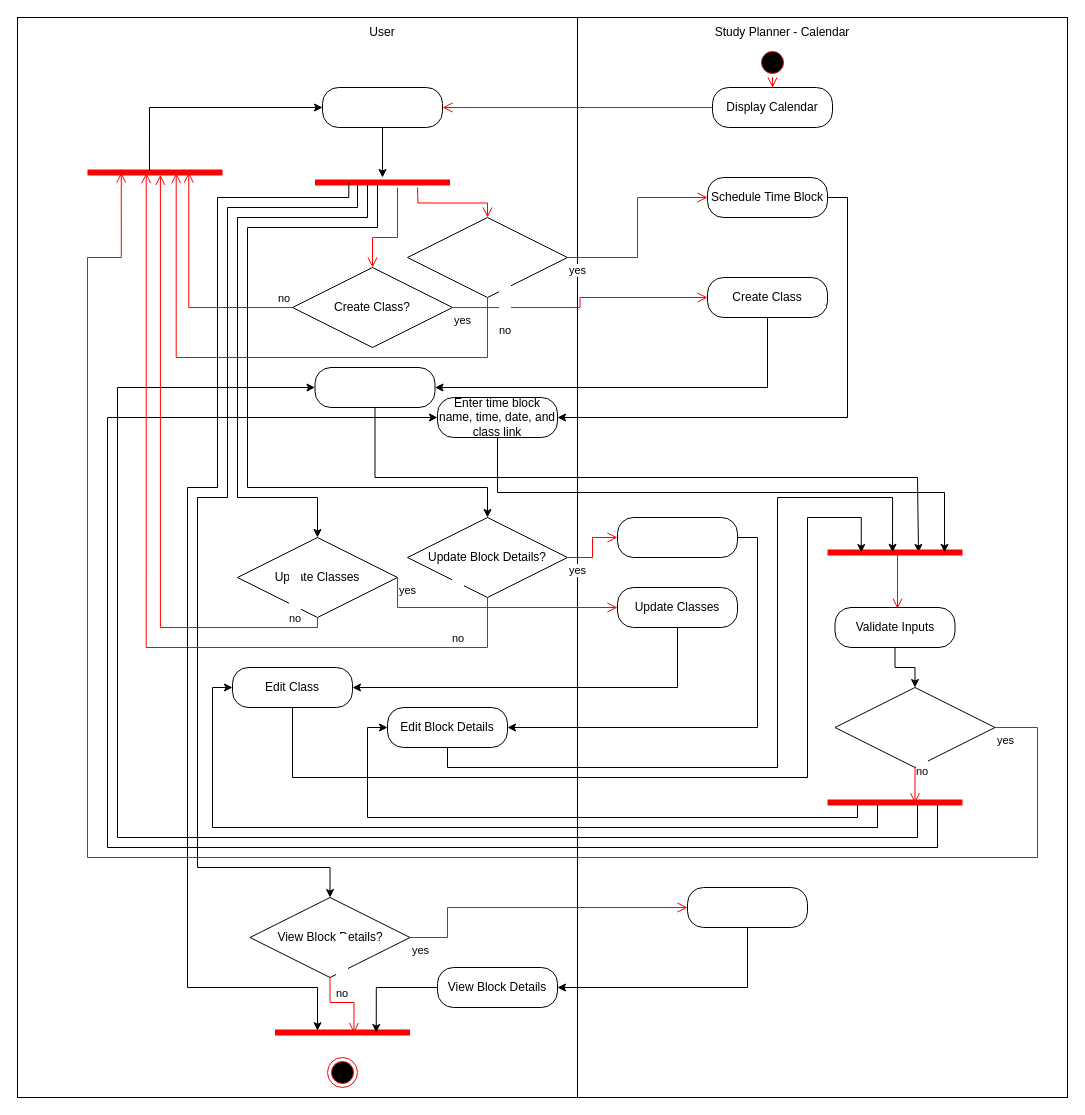
The diagram is 1085 pixels wide and 1115 high, and some of its shapes have lost their labels. Here are the shapes that lost their labels. From the top down, the centre of each, then its label:
At [382,107]: "View Calendar".
At [487,257]: "Schedule Time Block?".
At [374,387]: "Enter class name, ID, time, and dates".
At [677,537]: "Update Block Details".
At [914,727]: "Valid inputs?".
At [747,907]: "Display Block Details".
